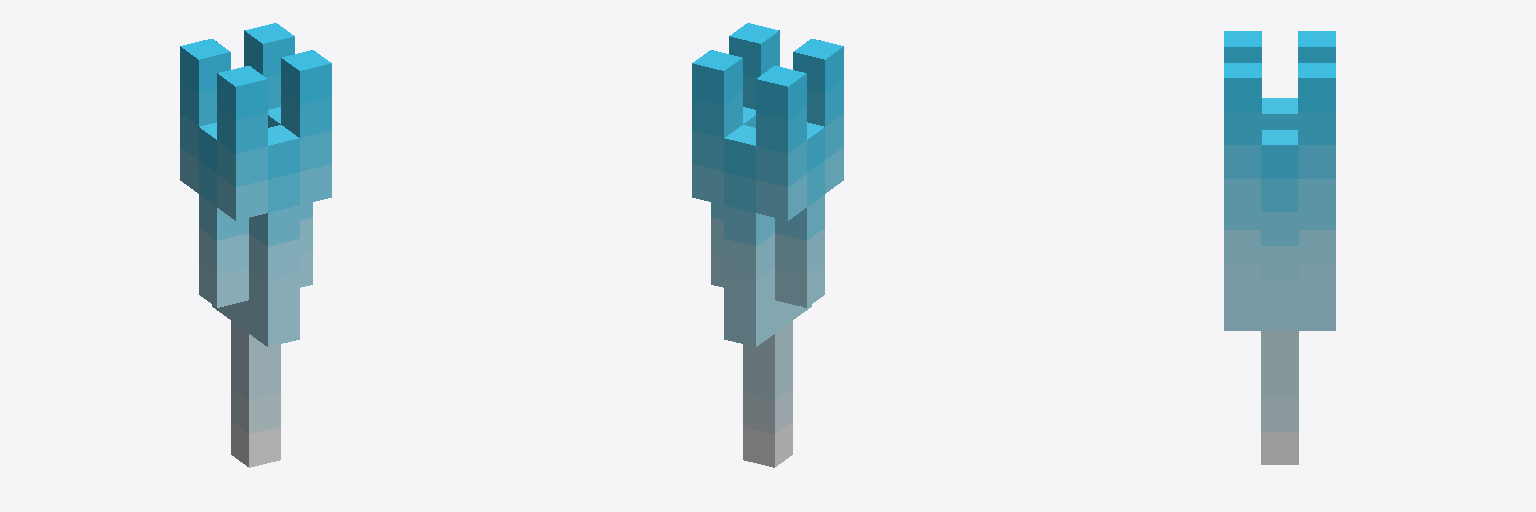
3 views of the same model, side by side, from view 1: azimuth 30°, elevation 25°; view 2: azimuth 150°, elevation 25°; view 3: azimuth 270°, elevation 25° (orthographic).
Parts seen in each view (by area): view 1: IcicleRainProjectile; view 2: IcicleRainProjectile; view 3: IcicleRainProjectile.
Boxes of the visible parts, x1,y1,x2,y2 form: IcicleRainProjectile: [180, 23, 331, 467]; IcicleRainProjectile: [692, 23, 843, 467]; IcicleRainProjectile: [1224, 31, 1335, 464].
Bounding box in the file's own units: 3 × 12 × 3.
Materials: 1 (1 with a texture image).